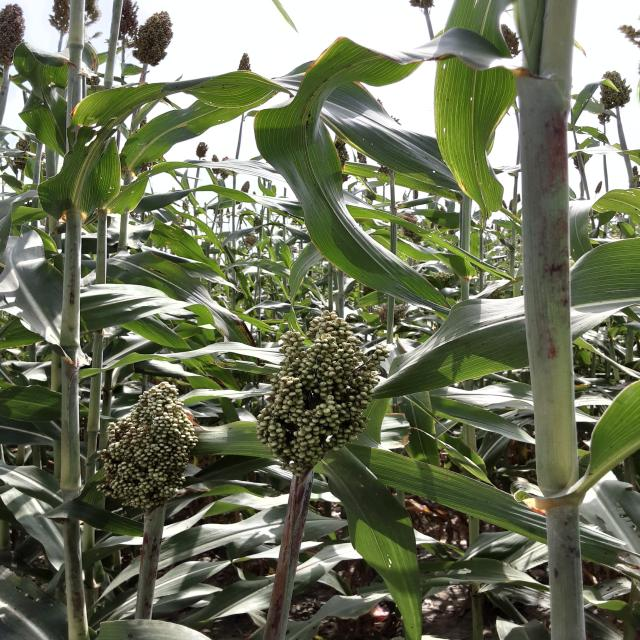UnripeSorghum: (248, 314, 394, 476), (92, 375, 210, 522)
